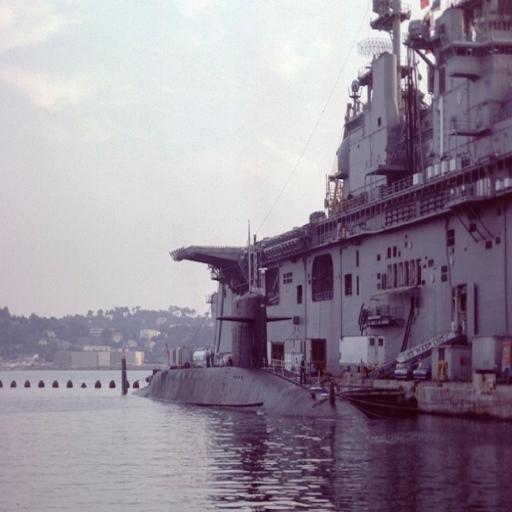submarine: (121, 245, 367, 425)
